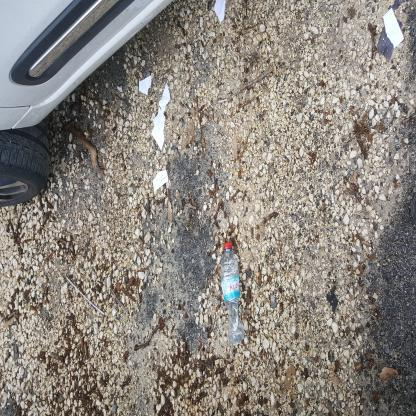trash: (31, 382, 106, 416)
